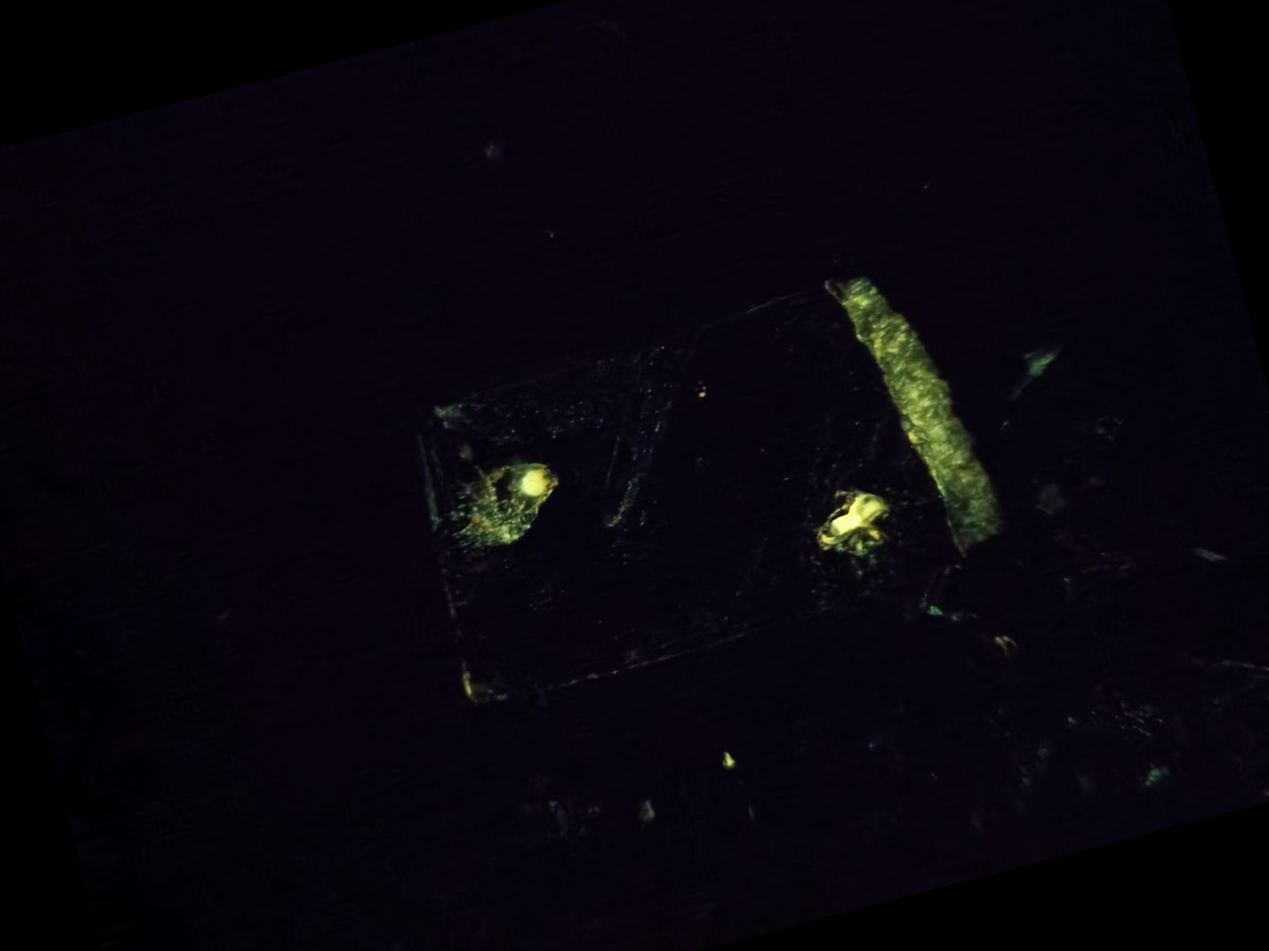Crater: (391, 413, 646, 590), (760, 461, 919, 603)
